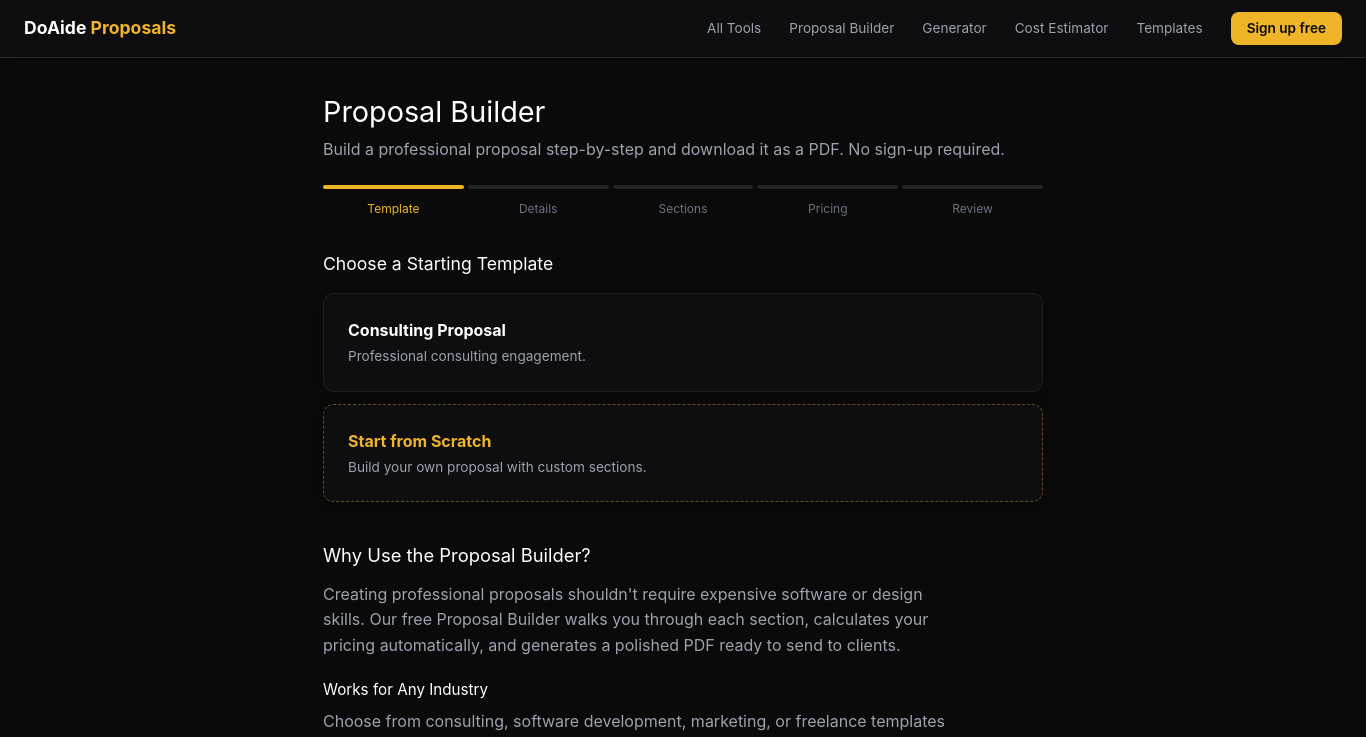
Test case: ProposalBuilderPage › navigates through all steps
Step 1. Click the text "Start from Scratch" → (420, 441), box [348,431,491,451]
(page scrolled)
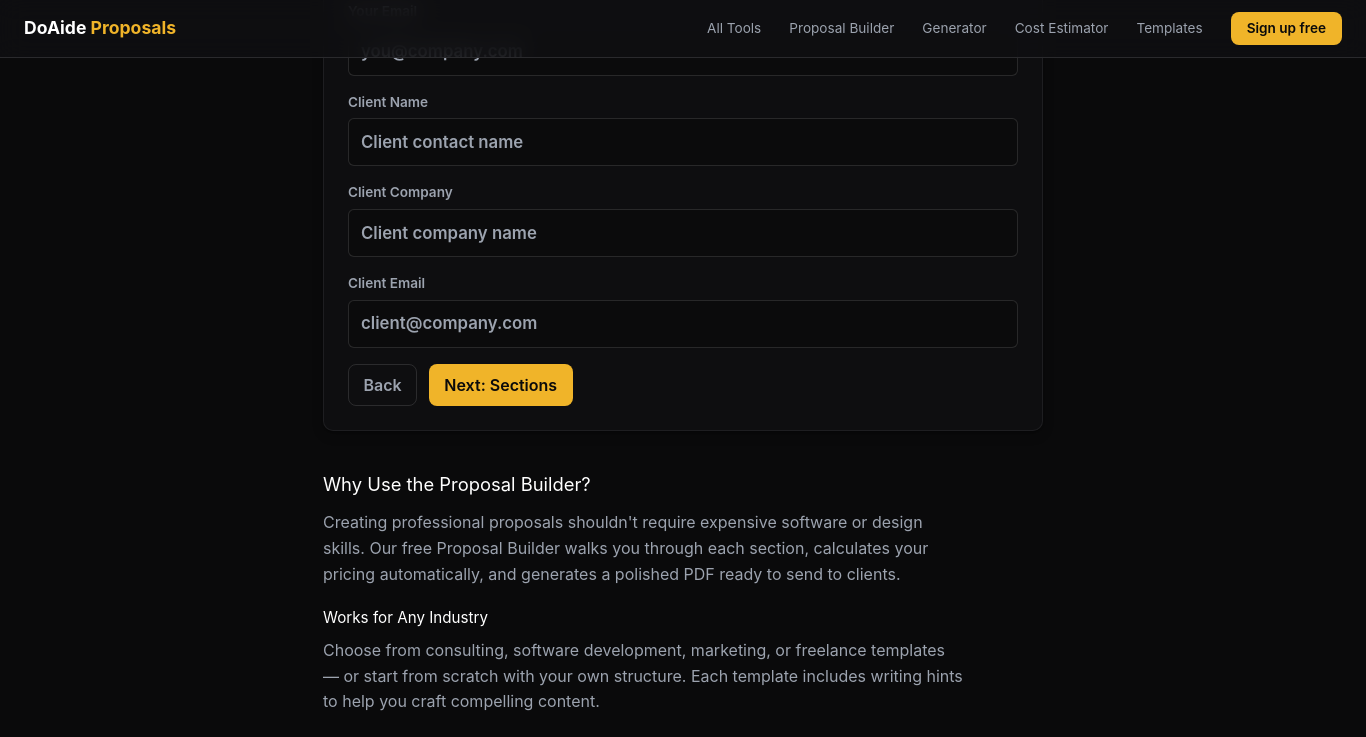
Step 2. Click the button "Next: Sections" → (501, 385), box [429,364,572,406]
(page scrolled)
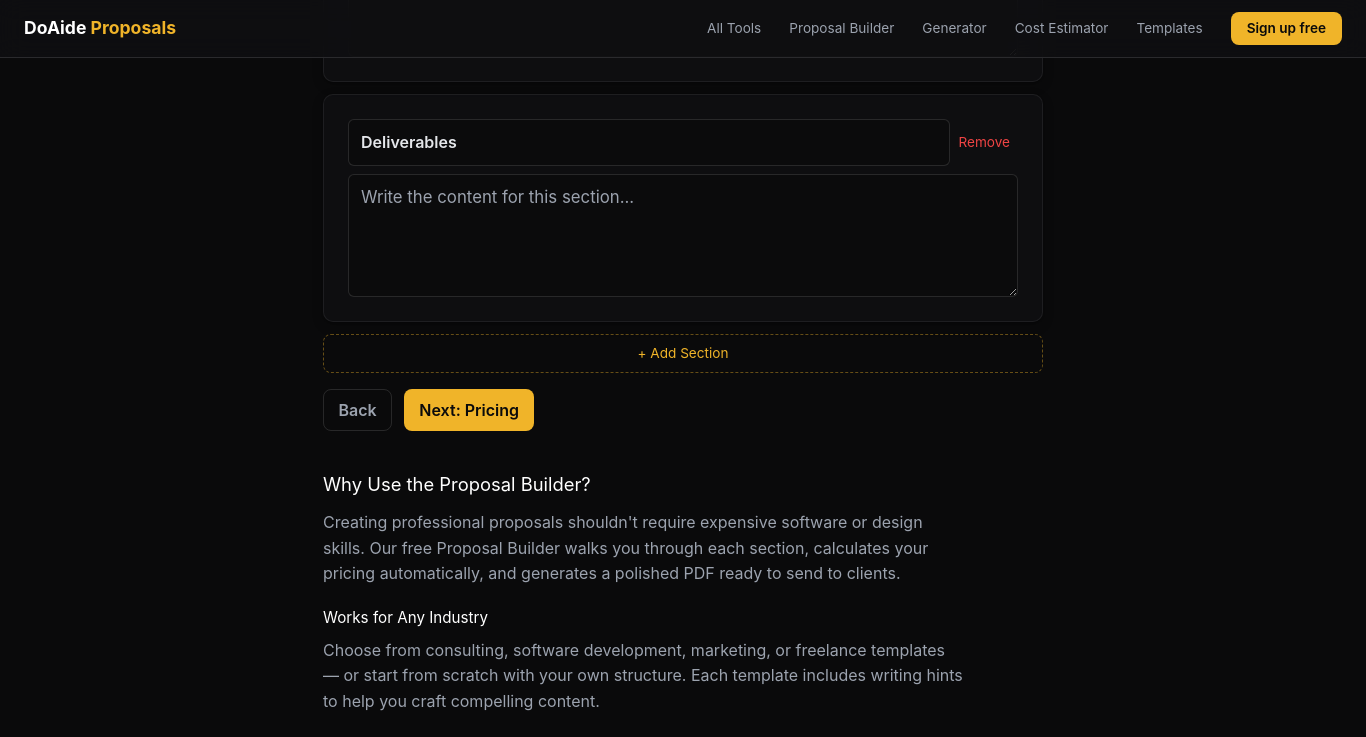
Step 3. Click the button "Next: Pricing" → (469, 410), box [404,389,534,431]
(page scrolled)
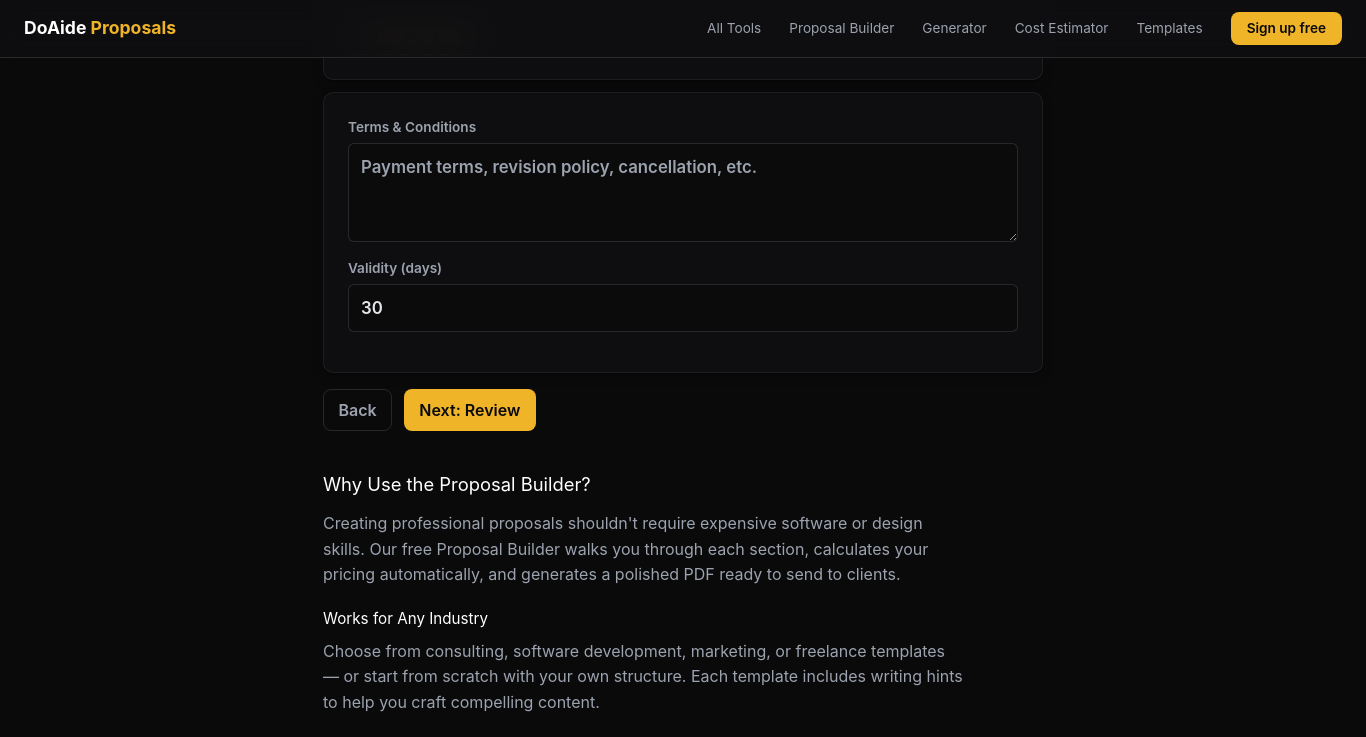
Step 4. Click the button "Next: Review" → (470, 410), box [404,389,536,431]
(page scrolled)
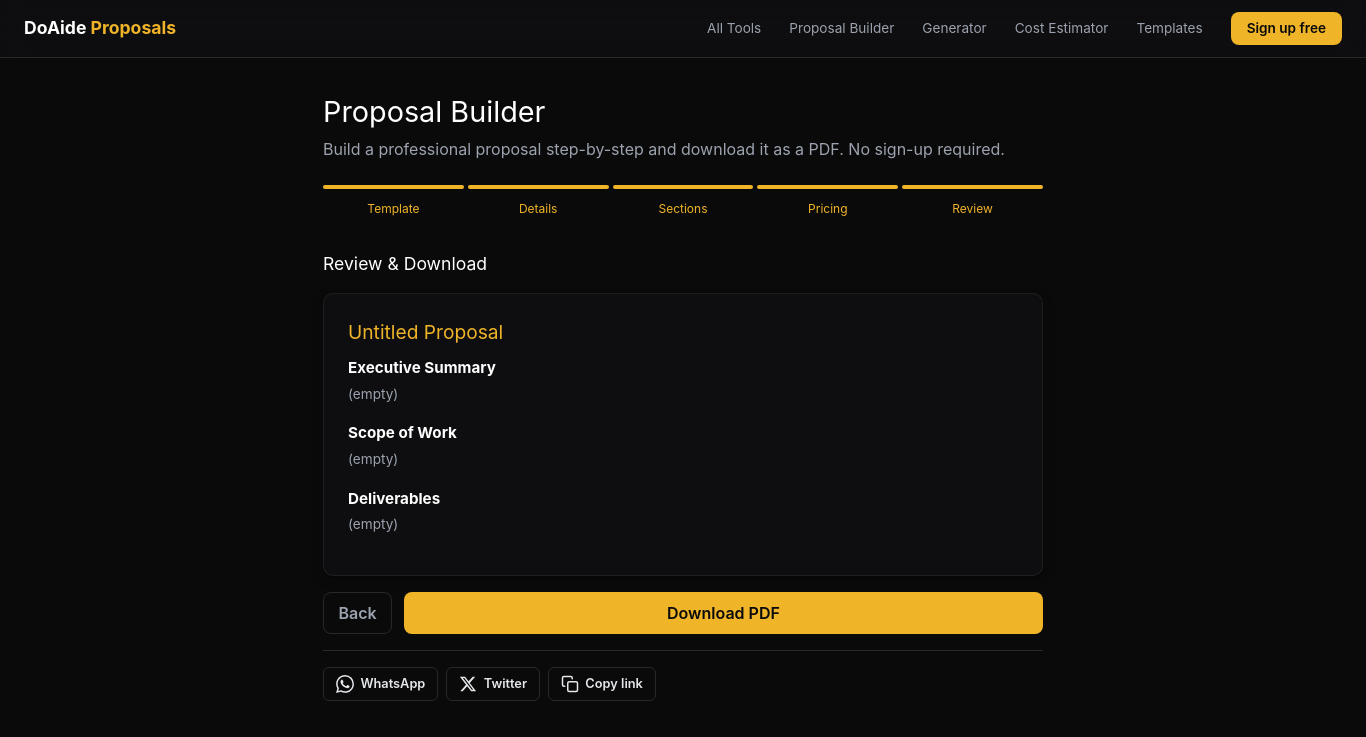
Now the heading "Review & Download" is shown, box [323,253,487,274]
